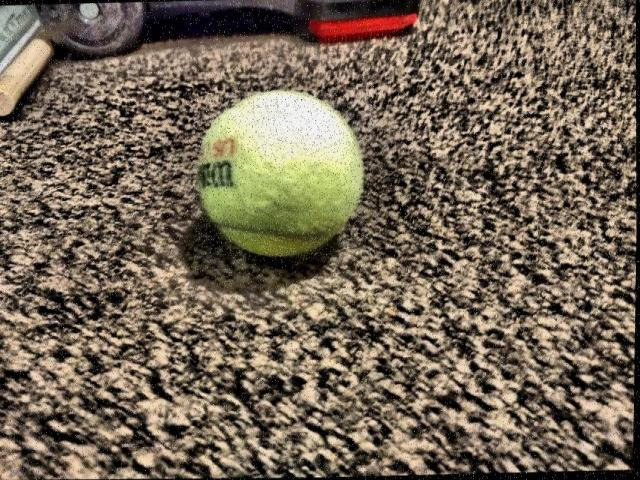tennis-ball: (194, 90, 364, 257)
